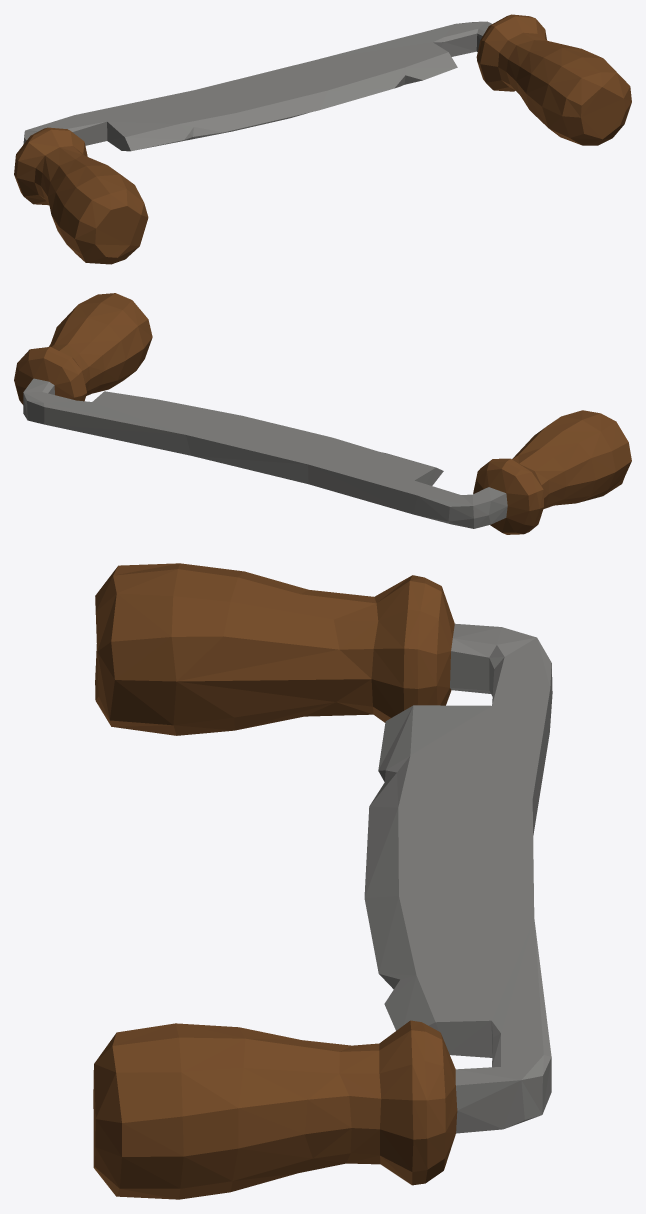
The model's file is Drawknife.fbx.
3 views of the same model, one above another, from view 1: azimuth 30°, elevation 25°; view 2: azimuth 150°, elevation 25°; view 3: azimuth 270°, elevation 25° (orthographic). The views are drawn at different scales.
Visible parts, largest first — view 1: Drawknife; view 2: Drawknife; view 3: Drawknife.
Part boxes in pixels (<box>): Drawknife: <box>14,14,631,264</box>; Drawknife: <box>14,293,631,534</box>; Drawknife: <box>93,563,552,1199</box>.
Size of the model in its own units: 0.5185 by 0.1865 by 0.0701.
